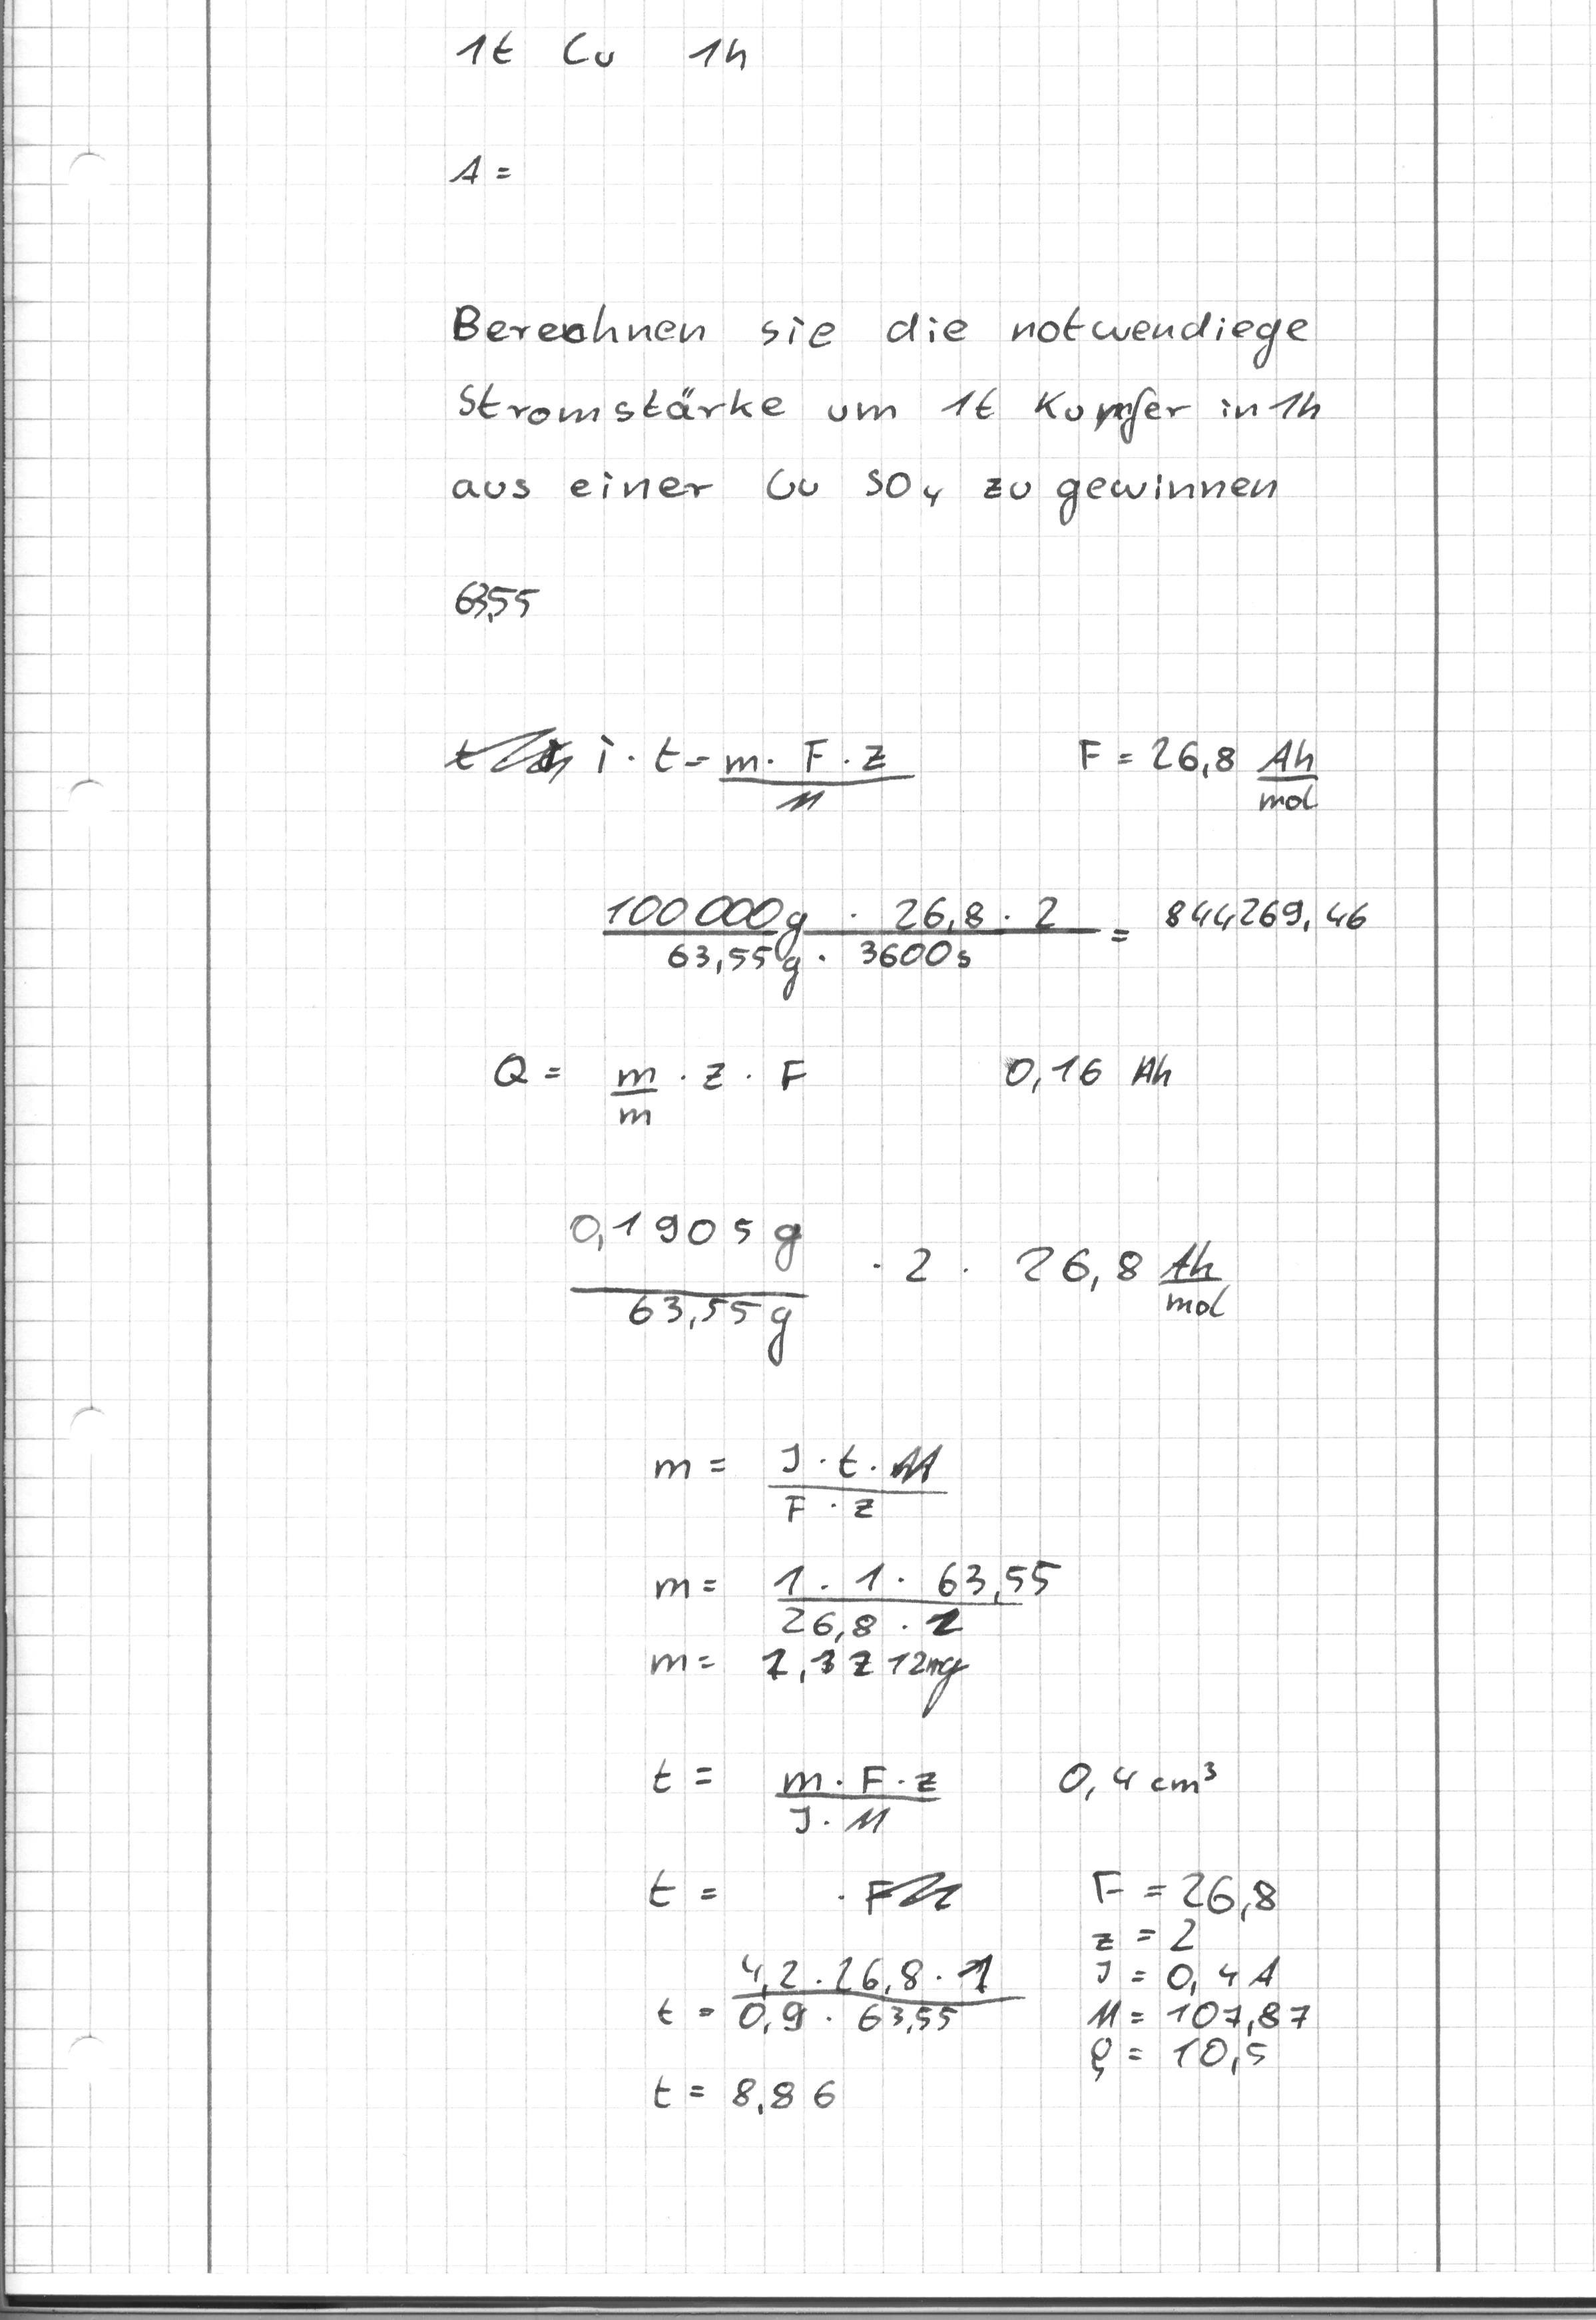word: (446, 286, 1325, 539), (547, 1183, 1238, 1379), (637, 1850, 1038, 2138), (587, 876, 1376, 1012), (433, 717, 1336, 819), (481, 1033, 1198, 1150), (641, 1552, 1071, 1731), (1064, 1848, 1332, 2106), (638, 1741, 1240, 1853), (642, 1426, 970, 1546), (443, 8, 773, 105), (431, 554, 566, 653), (429, 128, 544, 220)
